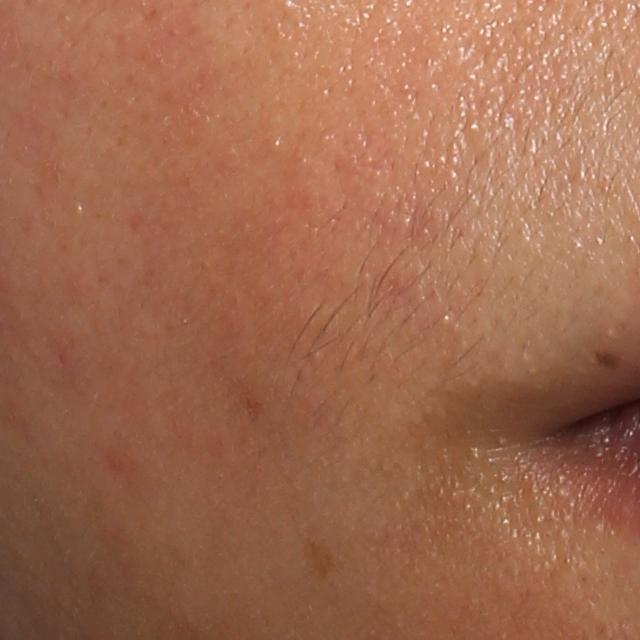nevus: (594, 348, 623, 371)
